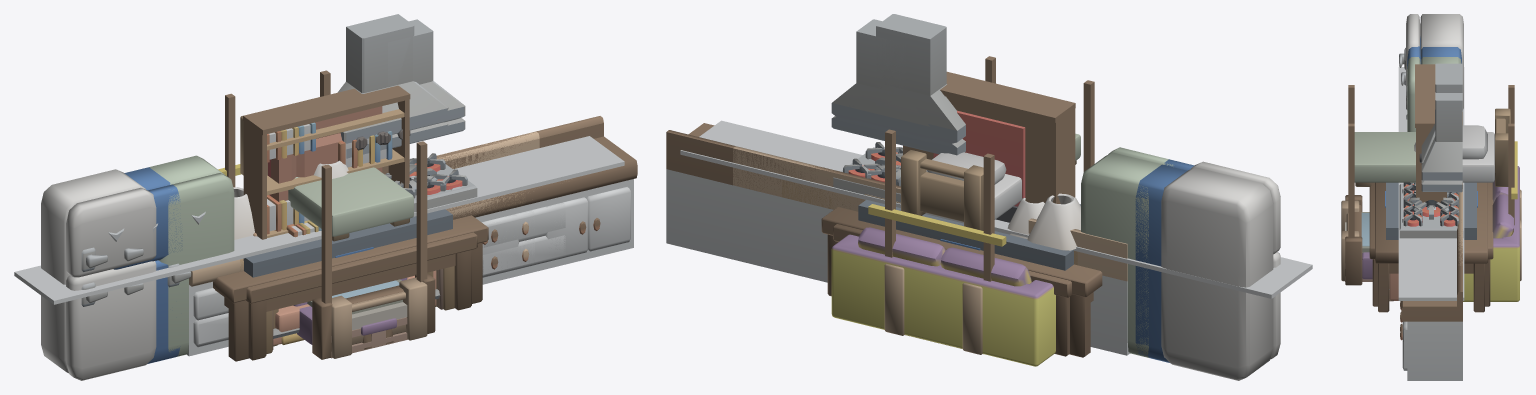
Rendered from academy_props.glb.
3 views of the same model, side by side, from view 1: azimuth 30°, elevation 25°; view 2: azimuth 150°, elevation 25°; view 3: azimuth 270°, elevation 25° (orthographic). The views are drawn at different scales.
Visible parts, largest first — view 1: kitchen_4, kitchen_3, bookcase_4, bunk_2, kitchen_2, table_4, desk_4, kitchen_island_3, bed_3, bed_4, door_a, bed_1 (+3 smaller); view 2: kitchen_4, kitchen_3, sofa_4, kitchen_2, bunk_2, bookcase_4, desk_4, kitchen_island_3, bed_3, door_b, table_4, bed_4 (+1 smaller); view 3: kitchen_4, bunk_2, kitchen_3, desk_4, sofa_4, bookcase_4, kitchen_2, bed_4, kitchen_island_3, table_4, bed_3, sofa_3.
Boxes of the visible parts, left/top/right/bottom form: kitchen_4: left=14, top=14, right=637, bottom=380; kitchen_3: left=113, top=19, right=569, bottom=363; bookcase_4: left=243, top=85, right=410, bottom=239; bunk_2: left=225, top=70, right=427, bottom=303; kitchen_2: left=149, top=155, right=525, bottom=356; table_4: left=246, top=232, right=477, bottom=360; desk_4: left=213, top=187, right=488, bottom=361; kitchen_island_3: left=243, top=209, right=452, bottom=277; bed_3: left=331, top=277, right=427, bottom=358; bed_4: left=218, top=164, right=435, bottom=359; door_a: left=271, top=106, right=382, bottom=201; bed_1: left=307, top=279, right=407, bottom=358; kitchen_4: left=666, top=14, right=1312, bottom=380; kitchen_3: left=733, top=19, right=1194, bottom=363; sofa_4: left=831, top=227, right=1055, bottom=366; kitchen_2: left=782, top=147, right=1173, bottom=357; bunk_2: left=885, top=56, right=1094, bottom=281; bookcase_4: left=903, top=71, right=1075, bottom=203; desk_4: left=821, top=193, right=1102, bottom=357; kitchen_island_3: left=858, top=194, right=1080, bottom=270; bed_3: left=884, top=263, right=982, bottom=354; door_b: left=933, top=110, right=1025, bottom=206; table_4: left=833, top=224, right=1072, bottom=356; bed_4: left=868, top=204, right=1006, bottom=246; kitchen_4: left=1398, top=14, right=1464, bottom=380; bunk_2: left=1348, top=85, right=1514, bottom=246; kitchen_3: left=1399, top=36, right=1463, bottom=322; desk_4: left=1375, top=182, right=1487, bottom=312; sofa_4: left=1463, top=166, right=1519, bottom=301; bookcase_4: left=1415, top=64, right=1446, bottom=202; kitchen_2: left=1399, top=57, right=1463, bottom=226; bed_4: left=1345, top=141, right=1517, bottom=285; kitchen_island_3: left=1386, top=182, right=1476, bottom=239; table_4: left=1369, top=182, right=1493, bottom=306; bed_3: left=1341, top=189, right=1521, bottom=281; sofa_3: left=1389, top=273, right=1398, bottom=300.
Size of the model in its own units: 6.15 by 2.6 by 1.98.
